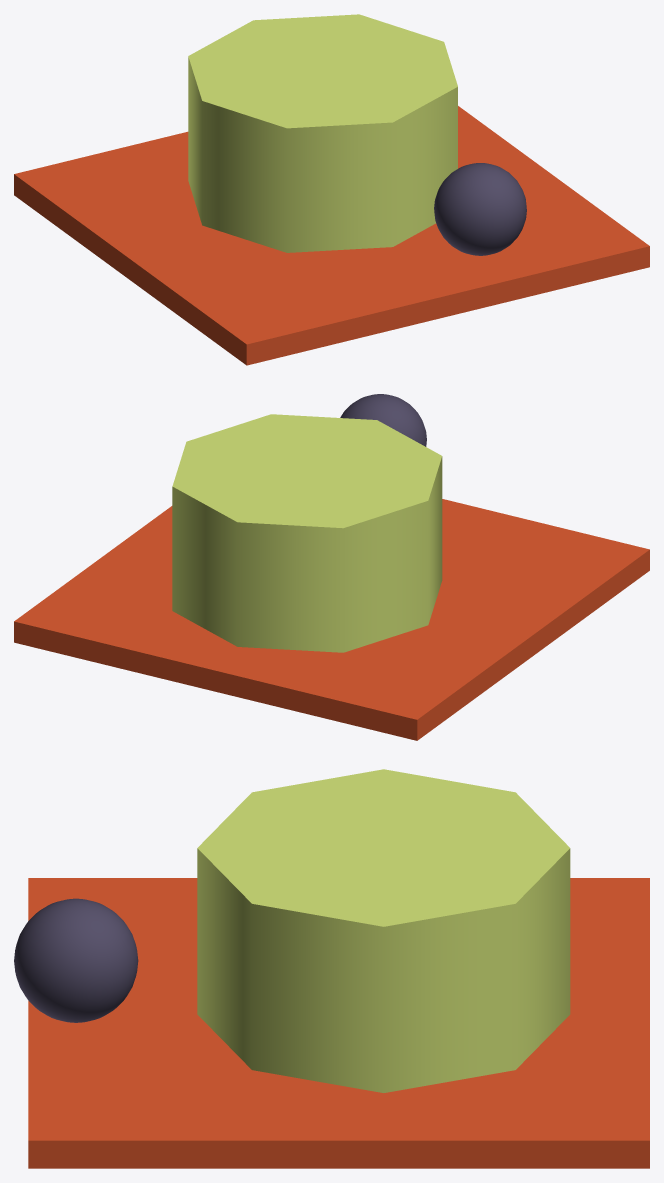
File: Prueba scene.glb
The picture shows the model from 3 angles, top to bottom: view 1: azimuth 30°, elevation 25°; view 2: azimuth 150°, elevation 25°; view 3: azimuth 270°, elevation 25°; orthographic projection. The views are drawn at different scales.
Parts seen in each view (by area): view 1: Box, Cylinder, Sphere; view 2: Box, Cylinder, Sphere; view 3: Cylinder, Box, Sphere.
Part boxes in pixels (x1,y1,x2,y2): Box: (14,106,649,365); Cylinder: (188,14,457,252); Sphere: (434,163,526,255); Box: (14,499,649,740); Cylinder: (172,414,442,652); Sphere: (340,394,426,446); Cylinder: (197,769,570,1092); Box: (28,878,649,1168); Sphere: (14,898,138,1022).
Size of the model in its own units: 1 by 0.3453 by 1.02.
